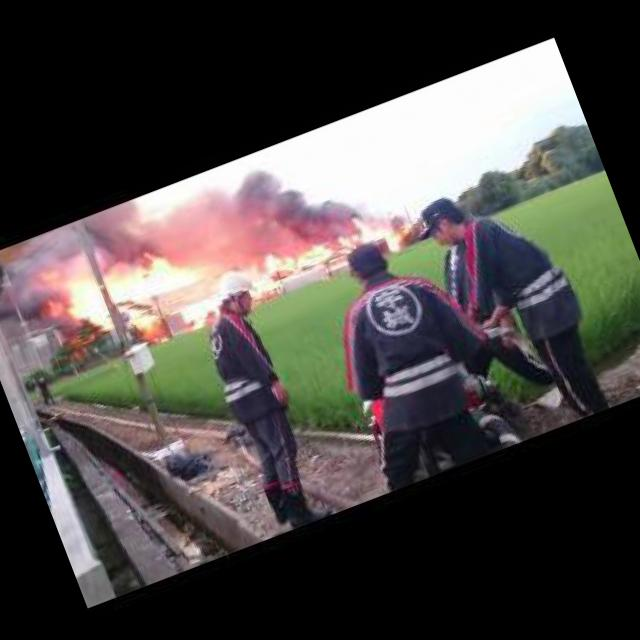fire: (101, 217, 282, 356), (47, 269, 114, 342), (352, 198, 416, 260), (265, 230, 336, 280), (339, 233, 356, 253)
smoke: (165, 121, 376, 282)
